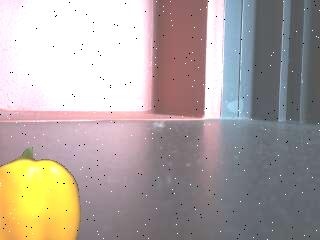Capsicum: (0, 142, 85, 240)
